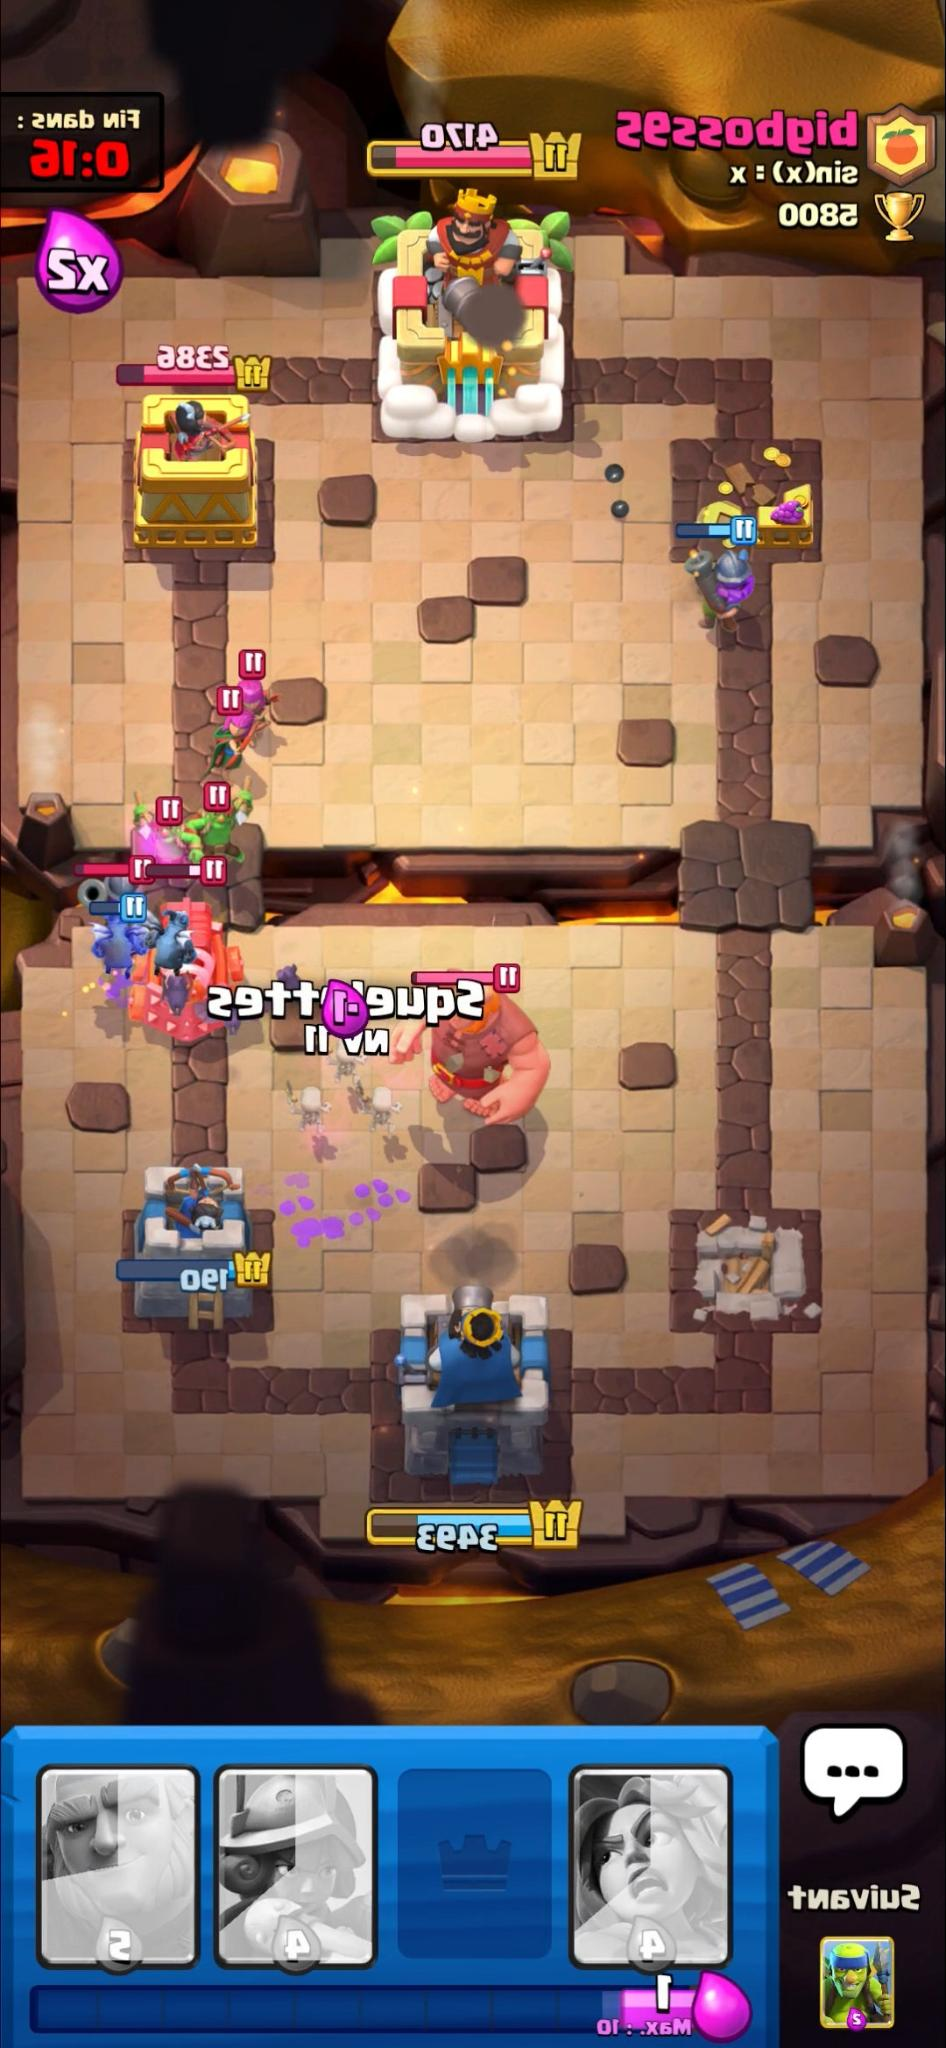archere: (199, 709, 260, 776), (231, 680, 277, 728)
bat: (155, 970, 195, 1011), (270, 960, 310, 991)
gargouille: (90, 908, 149, 974), (141, 909, 192, 974)
geant: (392, 977, 542, 1128)
gobelin_lances: (186, 778, 256, 863), (127, 799, 197, 870)
mousquetaire: (689, 543, 753, 641)
squelette: (282, 1081, 334, 1140), (350, 1078, 396, 1130)
